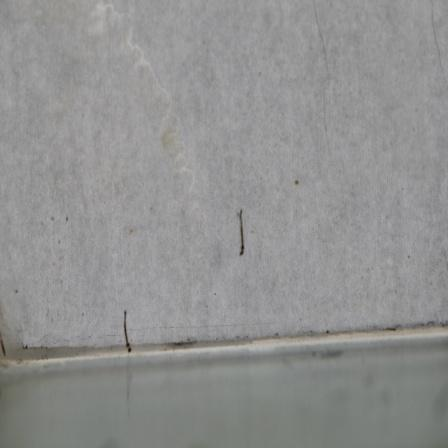Jentik-Nyamuk: (116, 306, 138, 357), (235, 206, 249, 257)
